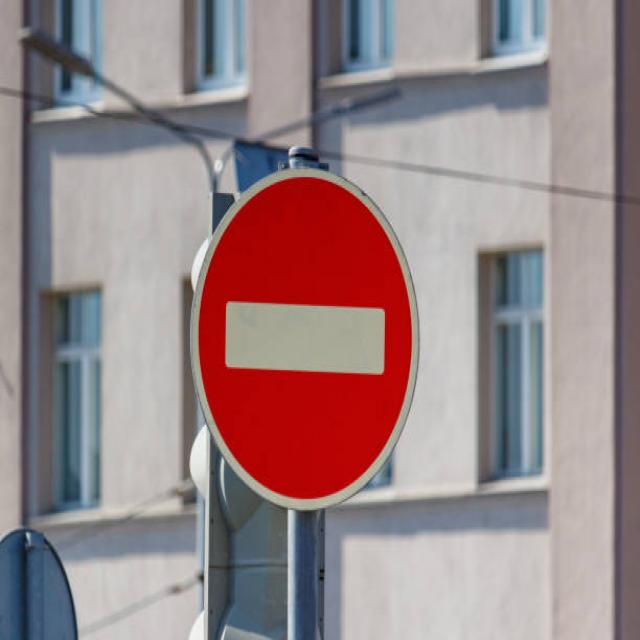do_not_enter: (180, 143, 418, 534)
